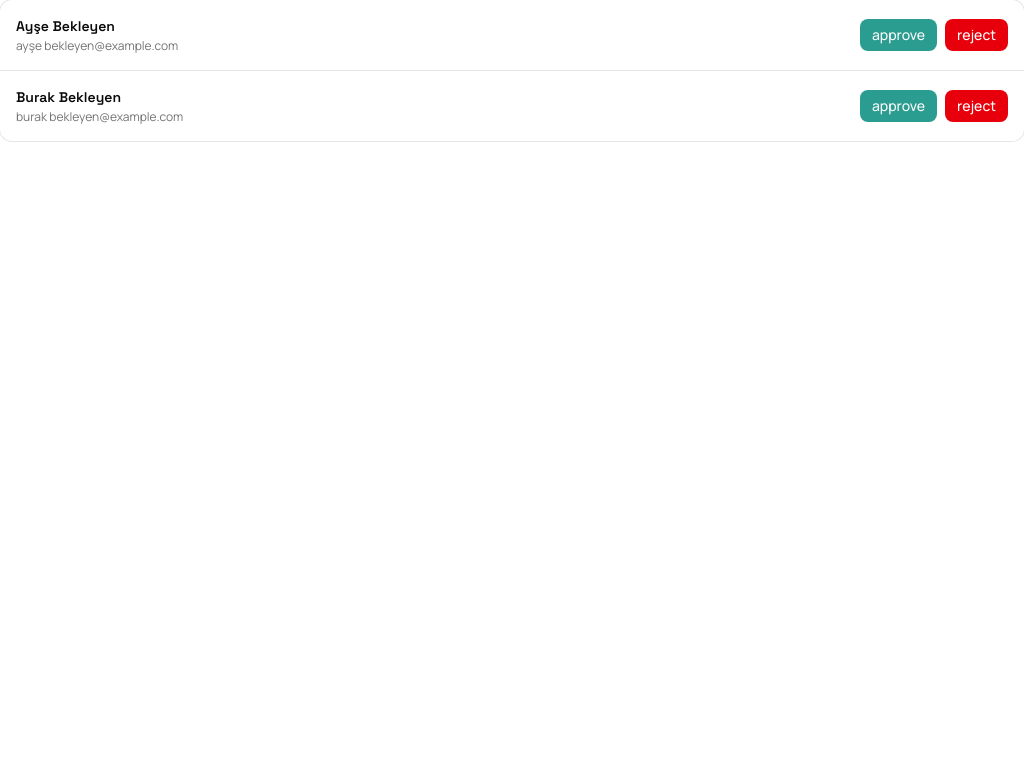
Scenario: PendingMembers reject gate › dismissing the question leaves the request untouched
What coordinates should you click on to do the following:
click the button "reject" in the row of "ayşe bekleyen@example.com"
I would click on:
 (977, 35)
Its box is x1=945 y1=19 x2=1008 y2=51.
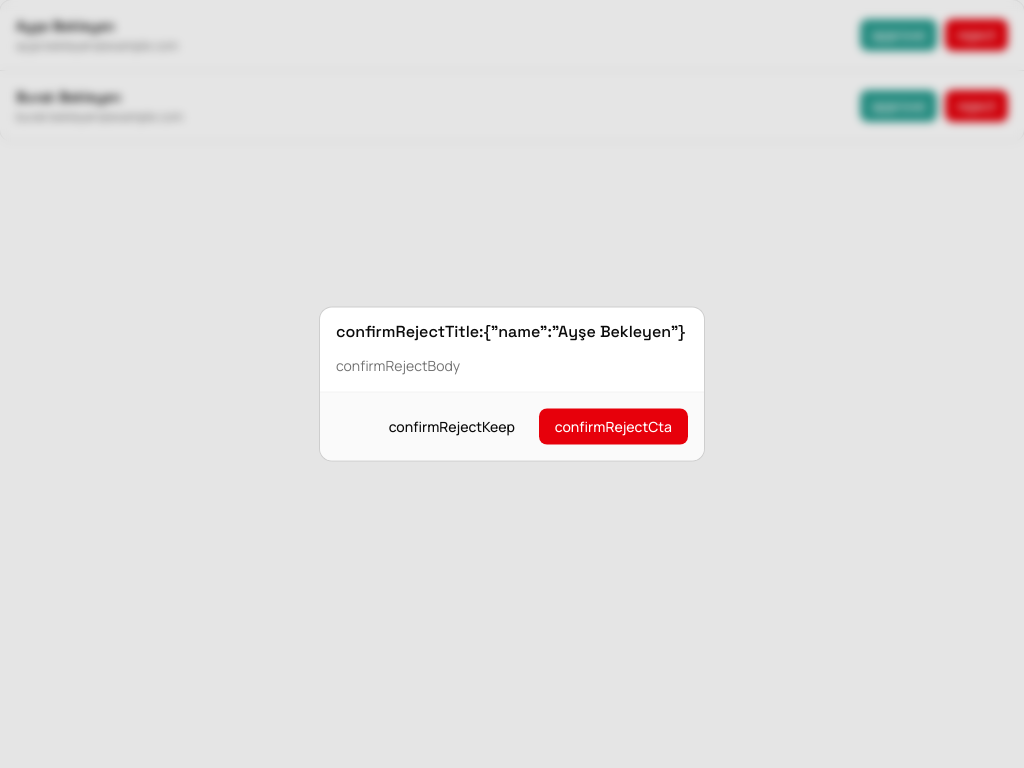
What coordinates should you click on to do the following:
click the button "confirmRejectKeep"
I would click on:
 (452, 426)
Its box is x1=373 y1=408 x2=531 y2=444.
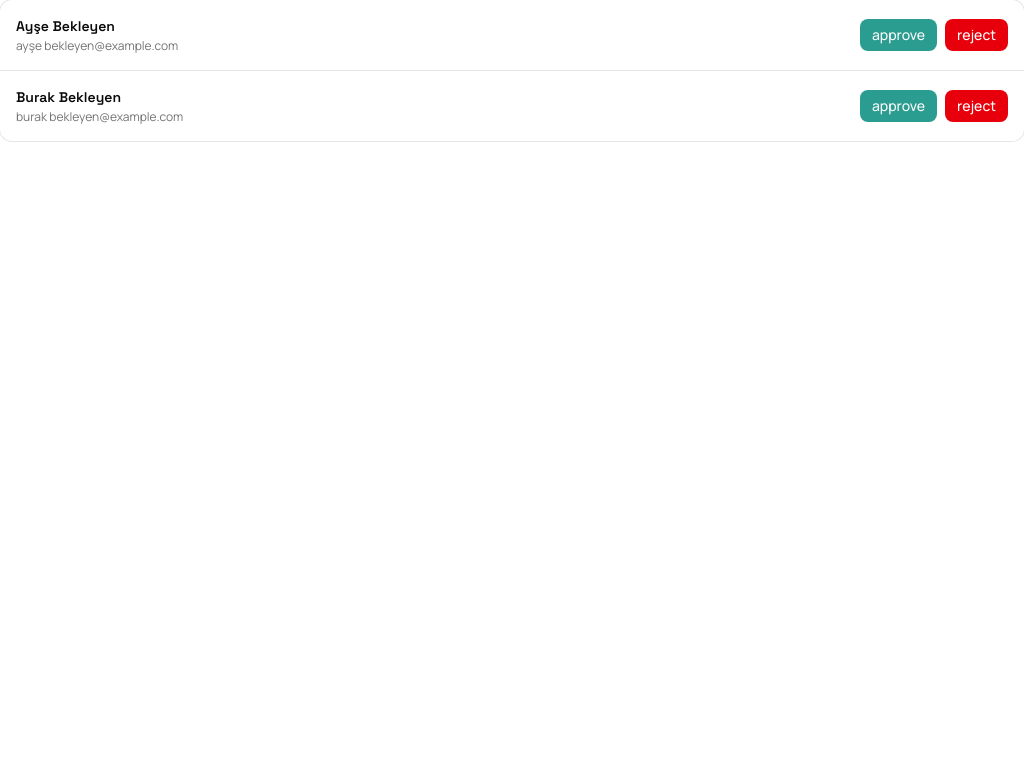
Expected: the heading "confirmRejectTitle" is gone
